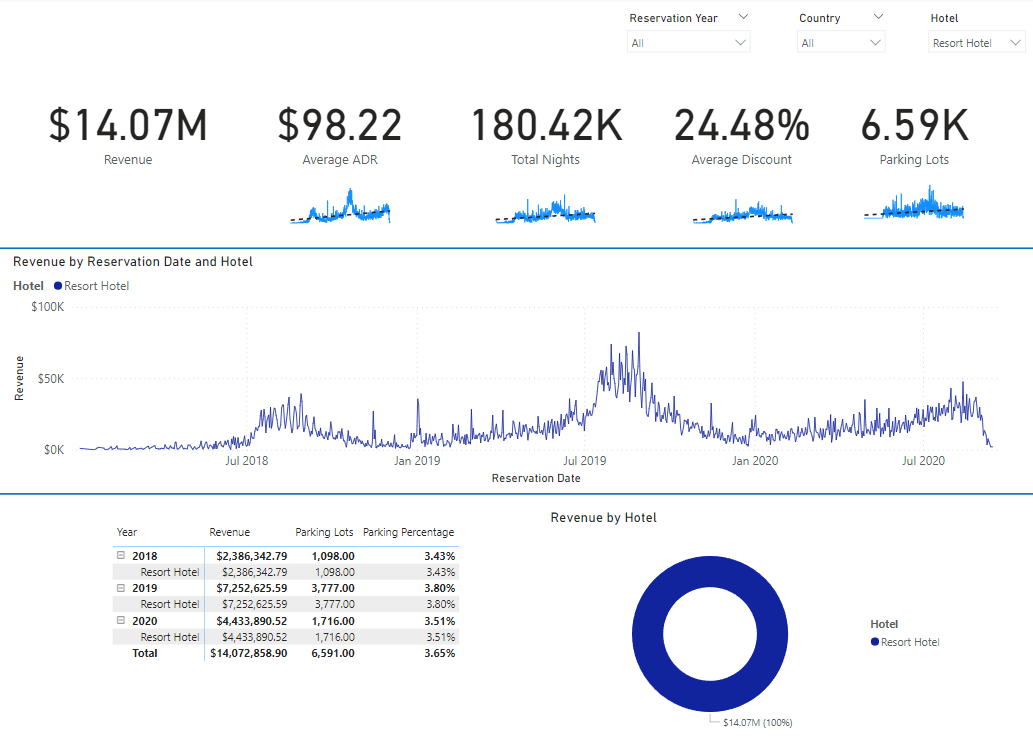

Layout of this report page (visuals, bound fields, positions):
{"tool":"powerbi","page":{"name":"Hotel","canvas":[1280,920],"ordinal":0},"visuals":[{"type":"shape","box":[0,303.6,1280.6,12.3],"z":0},{"type":"shape","box":[0,605.6,1280.6,13.9],"z":1000},{"type":"card","fields":{"Values":["Sum(Query1.Revenue)"]},"box":[0,83.2,328.2,155.6],"z":2000},{"type":"card","fields":{"Values":["Avg(Query1.adr)"]},"box":[320.5,109.4,209.6,104.8],"z":3000},{"type":"card","fields":{"Values":["Query1.Total Nights"]},"box":[576.3,106.3,205,109.4],"z":4000},{"type":"card","fields":{"Values":["Avg(Query1.Discount)"]},"box":[826,106.3,189.5,109.4],"z":5000},{"type":"lineChart","fields":{"Y":["Sum(Query1.Revenue)"],"Category":["Query1.reservation_status_date"],"Series":["Query1.hotel"]},"box":[17,315.9,1245.2,289.7],"z":6000},{"type":"slicer","fields":{"Values":["Query1.country"]},"box":[978.6,12.3,129.4,60.1],"z":7000},{"type":"slicer","fields":{"Values":["Query1.hotel"]},"box":[1140.4,12.3,140.2,66.3],"z":8000},{"type":"lineChart","fields":{"Category":["Query1.reservation_status_date"],"Y":["Sum(Query1.adr)"]},"box":[349.8,220.4,152.6,64.7],"z":9000},{"type":"lineChart","fields":{"Category":["Query1.reservation_status_date"],"Y":["Query1.Total Nights"]},"box":[602.5,221.9,152.6,63.2],"z":10000},{"type":"lineChart","fields":{"Category":["Query1.reservation_status_date"],"Y":["Sum(Query1.Discount)"]},"box":[846,221.9,152.6,63.2],"z":11000},{"type":"card","fields":{"Values":["Sum(Query1.required_car_parking_spaces)"]},"box":[1043.3,106.3,180.3,109.4],"z":12000},{"type":"lineChart","fields":{"Category":["Query1.reservation_status_date"],"Y":["Sum(Query1.required_car_parking_spaces)"]},"box":[1057.2,215.4,152.6,63.2],"z":13000},{"type":"donutChart","fields":{"Y":["Sum(Query1.Revenue)"],"Category":["Query1.hotel"]},"box":[679.6,631.8,499.3,288.2],"z":14000},{"type":"pivotTable","fields":{"Rows":["Query1.reservation_status_date.Variation.Date Hierarchy.Year","Query1.hotel"],"Values":["Sum(Query1.Revenue)","Sum(Query1.required_car_parking_spaces)","Query1.Parking Percentage"]},"box":[140.2,644.2,477.7,275.8],"z":15000},{"type":"slicer","fields":{"Values":["Query1.reservation_status_date.Variation.Date Hierarchy.Year","Query1.reservation_status_date.Variation.Date Hierarchy.Quarter","Query1.reservation_status_date.Variation.Date Hierarchy.Month","Query1.reservation_status_date.Variation.Date Hierarchy.Day"]},"box":[769,12.3,172.6,89.4],"z":16000}]}

Visuals, with their boxes in screenshot pixels (x1, y1, x2, y2), scaled from the page's 1280x920 canvas onto the 1033x742 screenshot:
shape: 0 245 1032 255
shape: 0 488 1032 500
card - Sum(Query1.Revenue): 0 67 265 193
card - Avg(Query1.adr): 259 88 428 173
card - Query1.Total Nights: 465 86 631 174
card - Avg(Query1.Discount): 667 86 820 174
lineChart - Sum(Query1.Revenue) x Query1.reservation_status_date: 14 255 1019 488
slicer - Query1.country: 790 10 894 58
slicer - Query1.hotel: 920 10 1032 63
lineChart - Query1.reservation_status_date x Sum(Query1.adr): 282 178 405 230
lineChart - Query1.reservation_status_date x Query1.Total Nights: 486 179 609 230
lineChart - Query1.reservation_status_date x Sum(Query1.Discount): 683 179 806 230
card - Sum(Query1.required_car_parking_spaces): 842 86 987 174
lineChart - Query1.reservation_status_date x Sum(Query1.required_car_parking_spaces): 853 174 976 225
donutChart - Sum(Query1.Revenue) x Query1.hotel: 548 510 951 741
pivotTable - Query1.reservation_status_date.Variation.Date Hierarchy.Year x Query1.hotel: 113 520 499 741
slicer - Query1.reservation_status_date.Variation.Date Hierarchy.Year x Query1.reservation_status_date.Variation.Date Hierarchy.Quarter: 621 10 760 82
